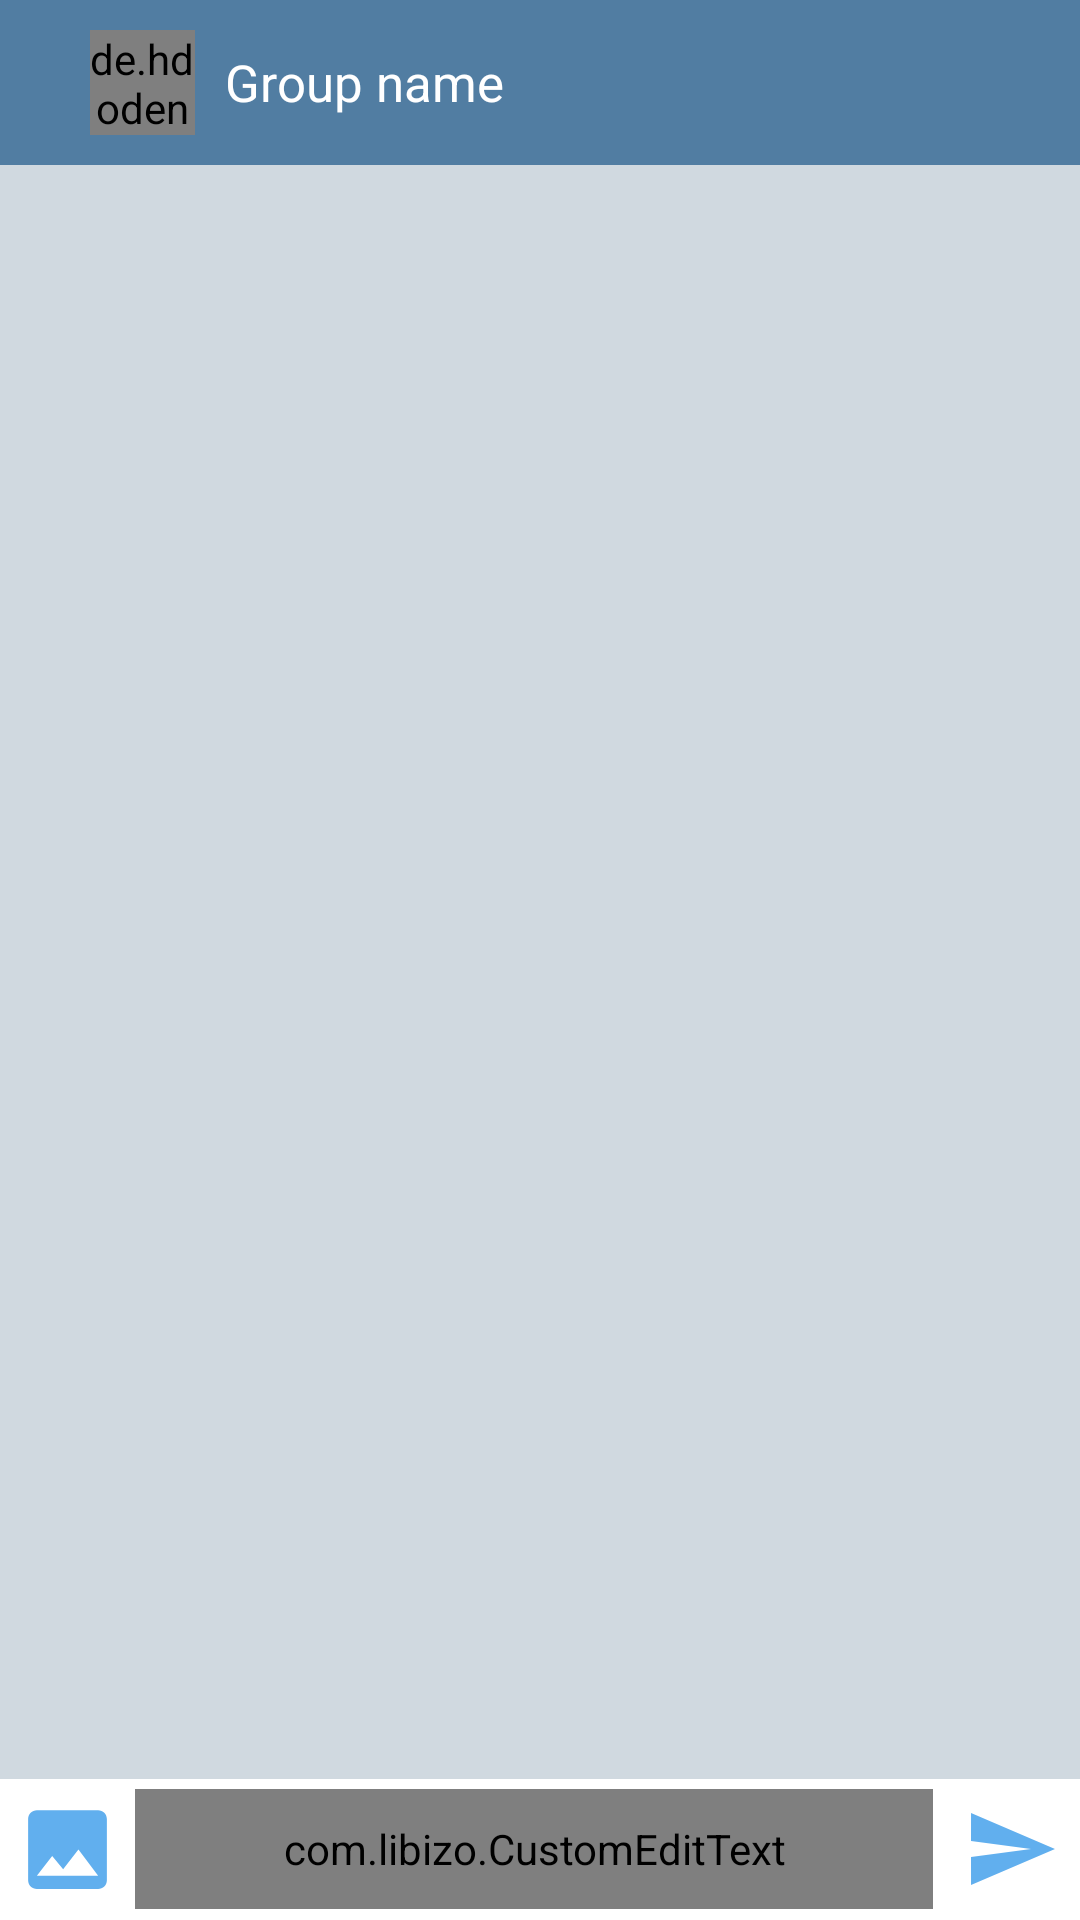

Where icons sit on this 1080px×1920px app screen, as (x1, y1, x2, y2):
send: (971, 1813, 1055, 1885)
